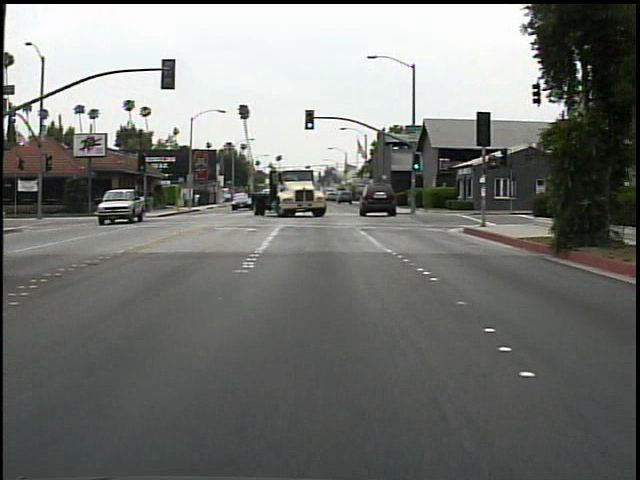person: (193, 188, 205, 209)
